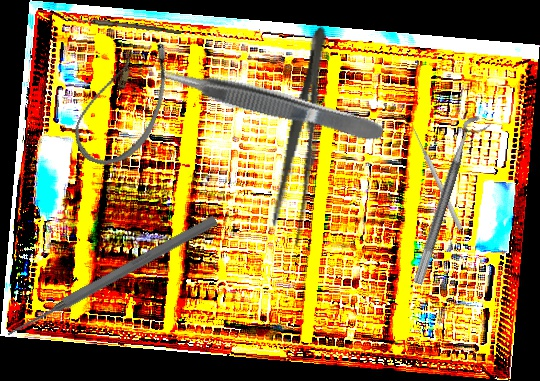Cannula: (66, 25, 182, 178)
Dressing Forceps: (266, 23, 339, 248)
Fixation Ring: (412, 112, 492, 290)
Pusher: (3, 212, 220, 342), (410, 126, 464, 231)
Surgical Spoon: (62, 15, 182, 35)
Tissue Forceps: (155, 58, 386, 150)
